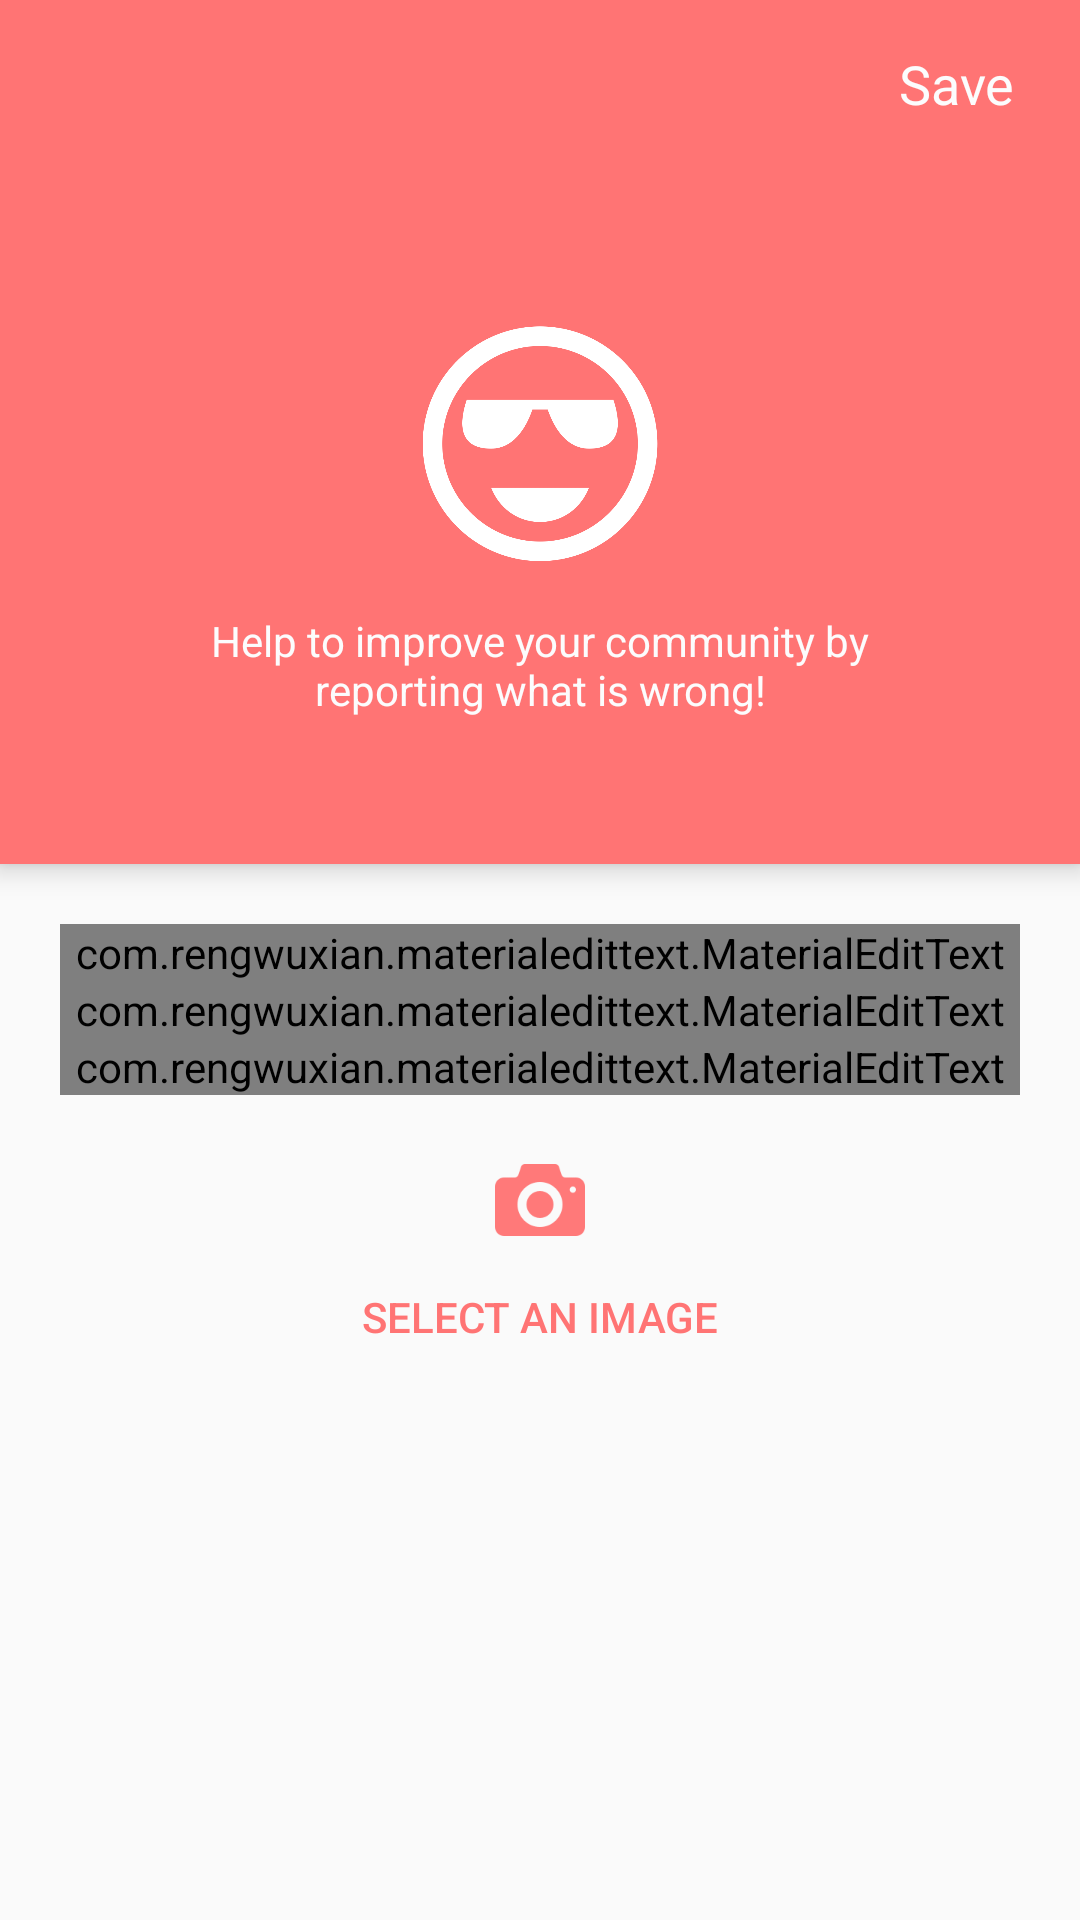

Icons on this 1080 x 1920 Android screen, each with the point to tap as point (x, y):
camera: point (540, 1200)
happy: point (540, 443)
